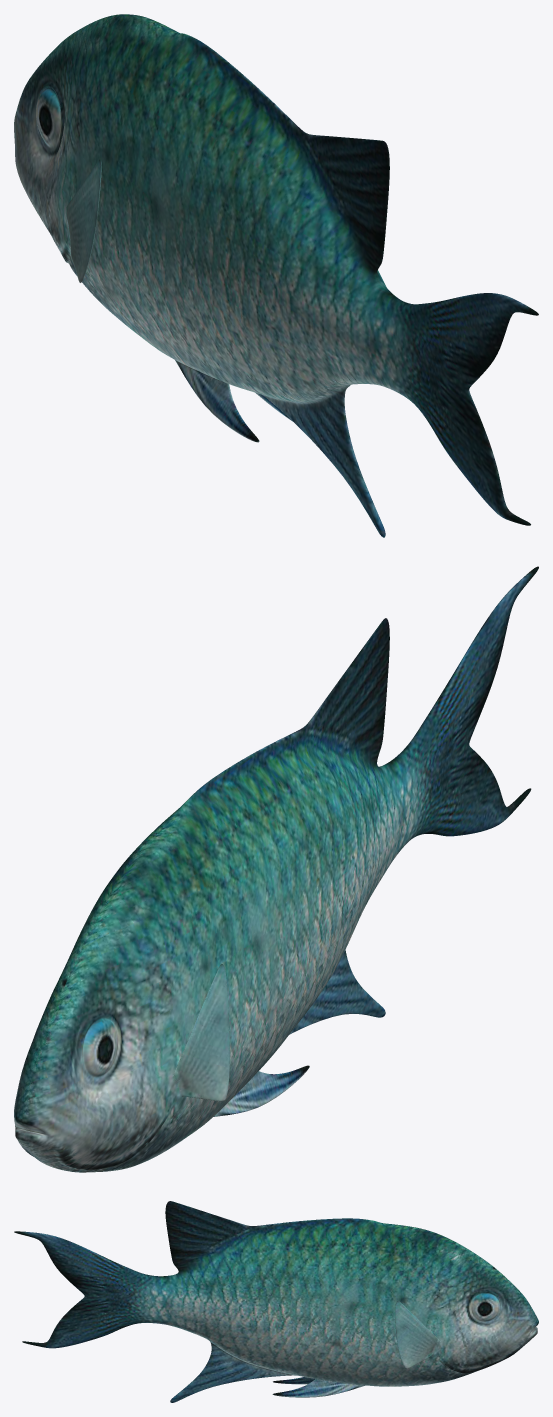
File: fish2.glb
3 renders of one model, top to bottom at view 1: azimuth 30°, elevation 25°; view 2: azimuth 150°, elevation 25°; view 3: azimuth 270°, elevation 25°, orthographic. The views are drawn at different scales.
Visible parts, largest first — view 1: 13007_Blue_Green_Reef_Chromis_v1; view 2: 13007_Blue_Green_Reef_Chromis_v1; view 3: 13007_Blue_Green_Reef_Chromis_v1.
Part boxes in pixels (x1,y1,x2,y2): 13007_Blue_Green_Reef_Chromis_v1: (14, 14, 538, 537); 13007_Blue_Green_Reef_Chromis_v1: (14, 566, 538, 1172); 13007_Blue_Green_Reef_Chromis_v1: (14, 1201, 538, 1402).
Size of the model in its own units: 8.4 by 21.92 by 51.67.
Materials: 1 (1 with a texture image).
